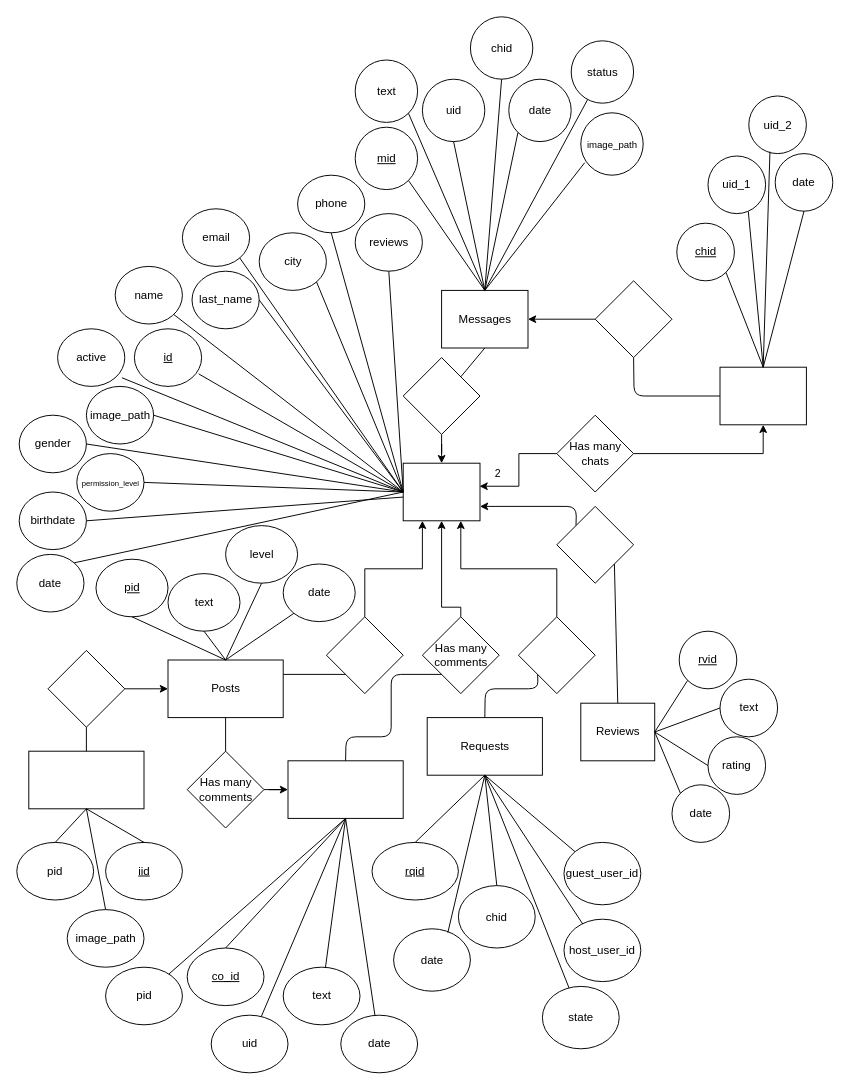
Image size: 850x1090. Some labels were removed from this diagram. Here are the shapes that lost their labels. From the top down, the box of each, then its label:
(594, 280, 672, 358): Has many messages
(402, 357, 480, 434): Has sent many messages
(719, 366, 806, 425): Chat
(402, 462, 480, 521): User
(556, 505, 634, 583): Has user reviews
(325, 616, 403, 694): Has many posts
(517, 616, 595, 694): Has many requests
(47, 649, 125, 727): Has one post image
(28, 750, 144, 809): PostsImages
(287, 760, 403, 818): Comments
